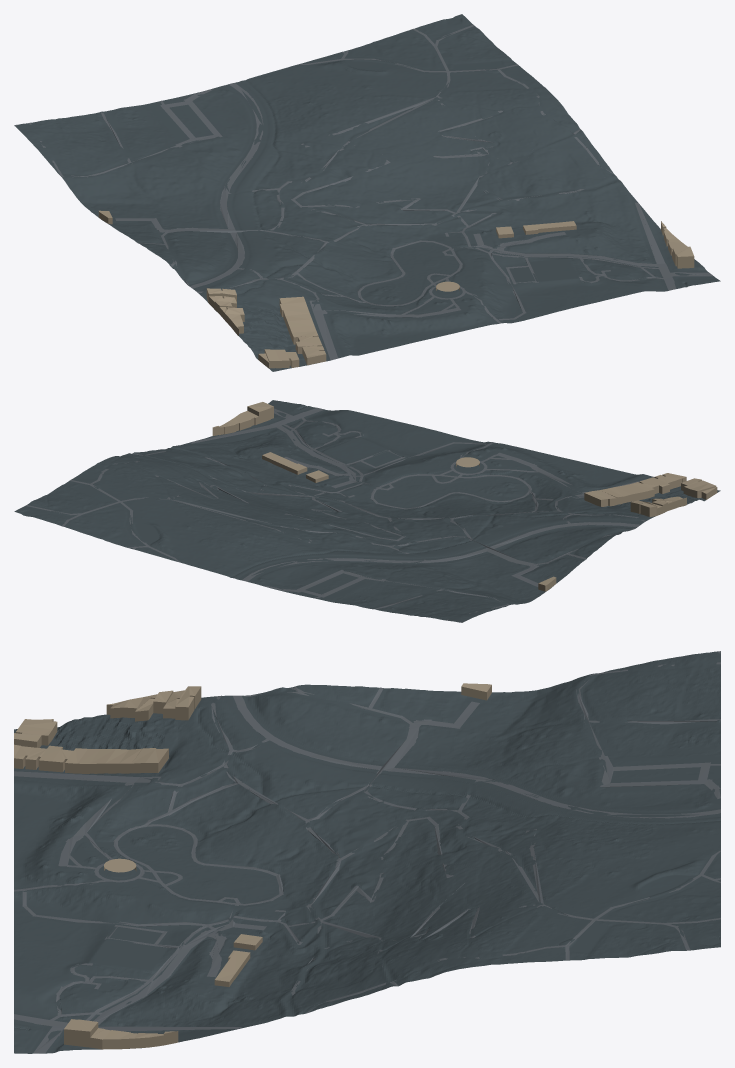
The model's file is epsg26910-1436-10872.lod0.glb.
The picture shows the model from 3 angles, top to bottom: view 1: azimuth 30°, elevation 25°; view 2: azimuth 150°, elevation 25°; view 3: azimuth 270°, elevation 25°; orthographic projection. The views are drawn at different scales.
Visible parts, largest first — view 1: epsg26910-1436-10872-lod0; view 2: epsg26910-1436-10872-lod0; view 3: epsg26910-1436-10872-lod0.
Boxes of the visible parts, bbox=[...] form: epsg26910-1436-10872-lod0: bbox=[14, 14, 720, 371]; epsg26910-1436-10872-lod0: bbox=[14, 400, 720, 622]; epsg26910-1436-10872-lod0: bbox=[14, 651, 720, 1053].
Size of the model in its own units: 384 by 63.95 by 384.
